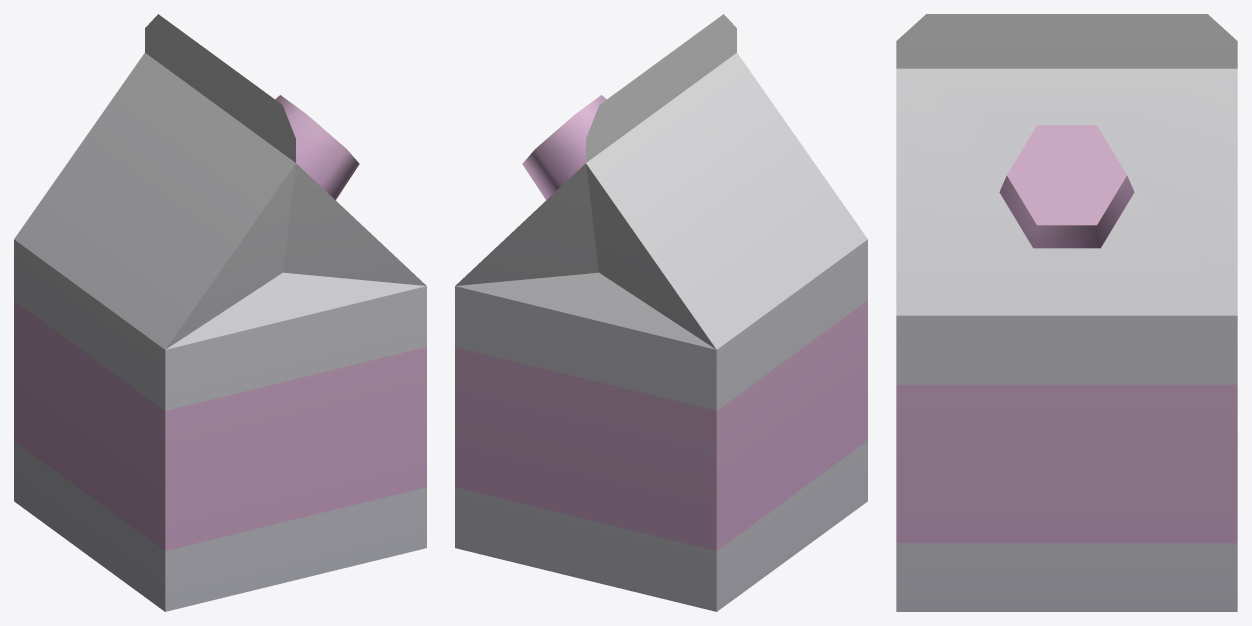
File: carton-small.glb
3 renders of one model, left to right at view 1: azimuth 30°, elevation 25°; view 2: azimuth 150°, elevation 25°; view 3: azimuth 270°, elevation 25°, orthographic. The views are drawn at different scales.
Parts seen in each view (by area): view 1: carton-small; view 2: carton-small; view 3: carton-small.
Boxes of the visible parts, x1=… form: carton-small: x1=14, y1=14, x2=426, y2=611; carton-small: x1=455, y1=14, x2=867, y2=611; carton-small: x1=896, y1=14, x2=1237, y2=611.
Bounding box in the file's own units: 0.23 × 0.3905 × 0.23.
